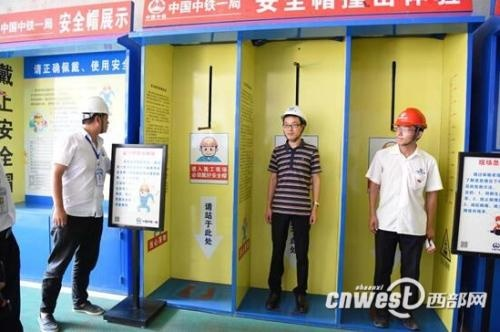red: (392, 105, 427, 149)
white: (79, 93, 112, 135), (278, 106, 309, 142)
